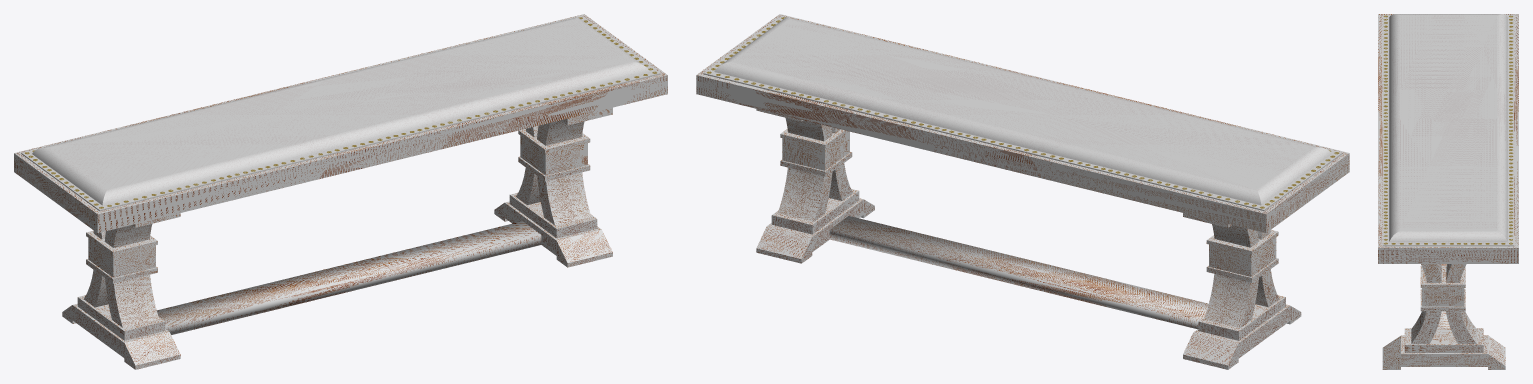
3 views of the same model, side by side, from view 1: azimuth 30°, elevation 25°; view 2: azimuth 150°, elevation 25°; view 3: azimuth 270°, elevation 25° (orthographic). The views are drawn at different scales.
Parts seen in each view (by area): view 1: mesh1_mesh1-geometry, mesh13_mesh13-geometry, mesh3_mesh3-geometry, mesh8_mesh8-geometry; view 2: mesh1_mesh1-geometry, mesh13_mesh13-geometry, mesh8_mesh8-geometry, mesh3_mesh3-geometry; view 3: mesh1_mesh1-geometry, mesh3_mesh3-geometry, mesh13_mesh13-geometry.
Part boxes in pixels (x1=…): mesh1_mesh1-geometry: x1=14, y1=14, x2=667, y2=233; mesh13_mesh13-geometry: x1=156, y1=221, x2=541, y2=334; mesh3_mesh3-geometry: x1=494, y1=107, x2=612, y2=267; mesh8_mesh8-geometry: x1=62, y1=213, x2=180, y2=369; mesh1_mesh1-geometry: x1=696, y1=14, x2=1349, y2=232; mesh13_mesh13-geometry: x1=829, y1=216, x2=1208, y2=329; mesh8_mesh8-geometry: x1=1183, y1=213, x2=1301, y2=369; mesh3_mesh3-geometry: x1=756, y1=109, x2=874, y2=263; mesh1_mesh1-geometry: x1=1378, y1=14, x2=1518, y2=263; mesh3_mesh3-geometry: x1=1382, y1=264, x2=1505, y2=369; mesh13_mesh13-geometry: x1=1437, y1=264, x2=1450, y2=328.
Size of the model in its own units: 0.9303 by 0.2806 by 0.2363.
